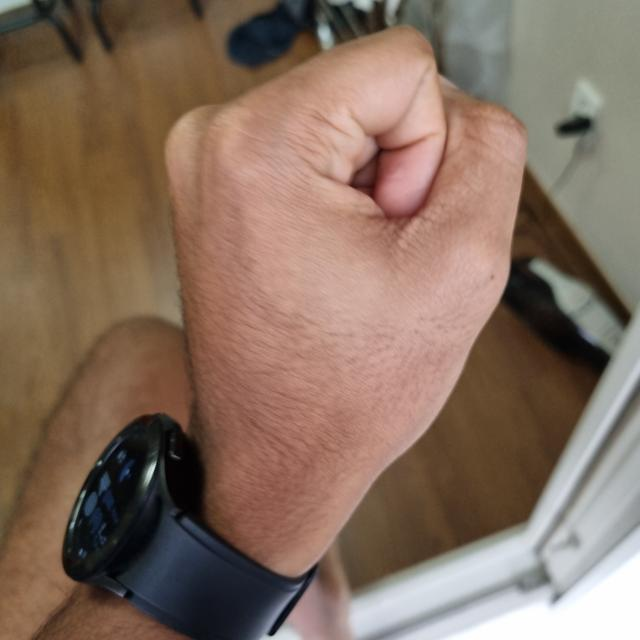Rock: (165, 22, 556, 562)
